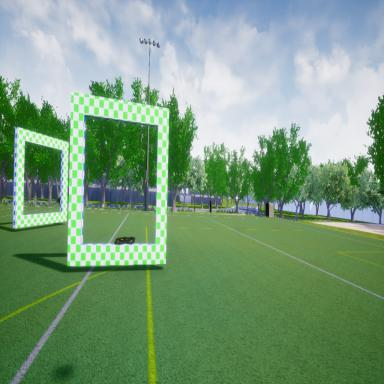gate: (68, 89, 172, 274), (12, 126, 70, 231)
